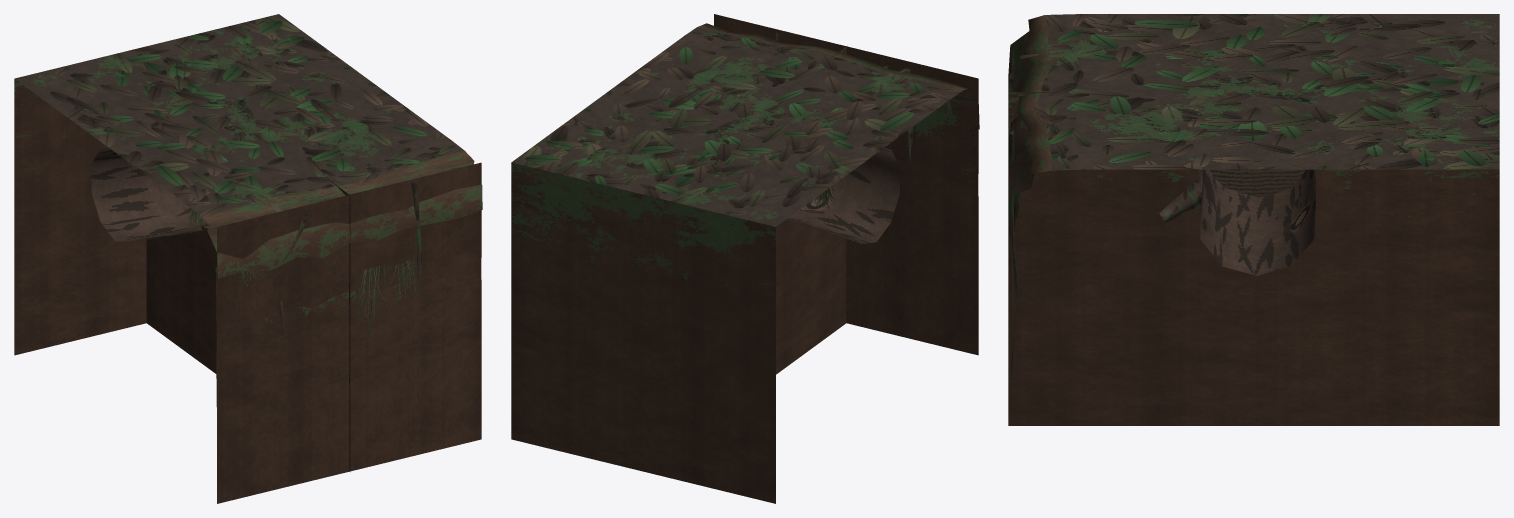
The model's file is platform_skins_cuyabeno_LOD1.glb.
3 views of the same model, side by side, from view 1: azimuth 30°, elevation 25°; view 2: azimuth 150°, elevation 25°; view 3: azimuth 270°, elevation 25° (orthographic). The views are drawn at different scales.
Parts seen in each view (by area): view 1: Solid_Top_2m_LOD1, Solid_Fill_2m_LOD1, Lip_2m_LOD1, Solid_Fill_CapR_LOD1, Oneway_2m_LOD1, Solid_Fill_CapL_LOD1, Solid_Top_CapL_LOD1, Solid_Top_CapR_LOD1; view 2: Solid_Fill_2m_LOD1, Solid_Top_2m_LOD1, Solid_Fill_CapR_LOD1, Solid_Top_CapR_LOD1, Solid_Top_CapL_LOD1, Oneway_2m_LOD1, Lip_2m_LOD1; view 3: Solid_Fill_CapL_LOD1, Solid_Top_2m_LOD1, Lip_2m_LOD1, Solid_Top_CapL_LOD1, Oneway_2m_LOD1, Solid_Top_CapR_LOD1, Oneway_CapL_LOD1, Solid_Fill_2m_LOD1.
Part boxes in pixels (x1,y1,x2,y2): Solid_Top_2m_LOD1: (14, 14, 481, 411); Solid_Fill_2m_LOD1: (14, 79, 481, 503); Lip_2m_LOD1: (188, 141, 482, 330); Solid_Fill_CapR_LOD1: (102, 144, 350, 481); Oneway_2m_LOD1: (91, 147, 209, 242); Solid_Fill_CapL_LOD1: (350, 184, 393, 470); Solid_Top_CapL_LOD1: (147, 35, 393, 378); Solid_Top_CapR_LOD1: (103, 47, 349, 372); Solid_Fill_2m_LOD1: (511, 14, 978, 503); Solid_Top_2m_LOD1: (511, 35, 978, 410); Solid_Fill_CapR_LOD1: (776, 46, 890, 374); Solid_Top_CapR_LOD1: (643, 68, 860, 389); Solid_Top_CapL_LOD1: (599, 58, 838, 370); Oneway_2m_LOD1: (786, 148, 899, 243); Lip_2m_LOD1: (685, 23, 979, 129); Solid_Fill_CapL_LOD1: (1008, 92, 1499, 425); Solid_Top_2m_LOD1: (1009, 14, 1499, 331); Lip_2m_LOD1: (1008, 14, 1081, 221); Solid_Top_CapL_LOD1: (1008, 92, 1499, 313); Oneway_2m_LOD1: (1159, 169, 1316, 275); Solid_Top_CapR_LOD1: (1008, 66, 1499, 314); Oneway_CapL_LOD1: (1200, 169, 1314, 224); Solid_Fill_2m_LOD1: (1009, 131, 1017, 415).
Bounding box in the file's own units: 2 × 2 × 2.67.
Materials: 1 (1 with a texture image).
